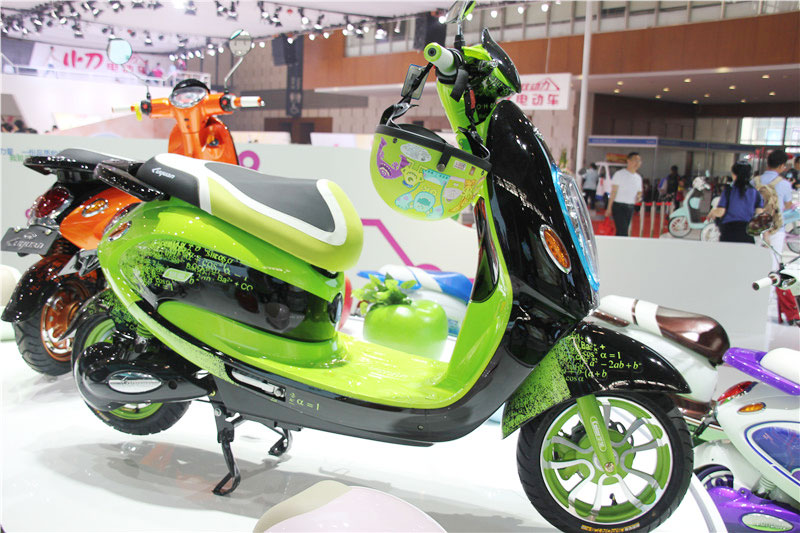MNV: (76, 37, 694, 533)
